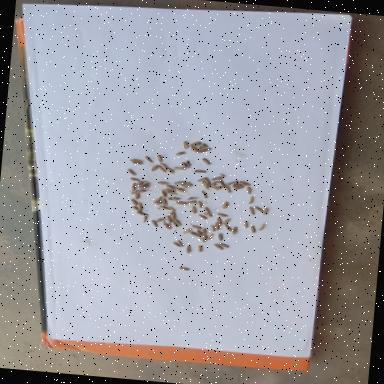pbw: (200, 180, 210, 190), (157, 206, 173, 212), (130, 160, 144, 166), (164, 188, 176, 195), (182, 141, 190, 151), (130, 206, 140, 214), (253, 206, 263, 214), (143, 156, 153, 164), (198, 148, 211, 154), (129, 199, 138, 207), (201, 158, 210, 166), (178, 266, 190, 272), (247, 207, 255, 216), (166, 197, 180, 202), (130, 182, 137, 192), (189, 147, 199, 154), (152, 197, 162, 204), (232, 186, 243, 192), (136, 202, 142, 213), (211, 176, 222, 182), (200, 191, 208, 199), (184, 160, 192, 168), (151, 220, 159, 228), (216, 234, 224, 242), (220, 202, 228, 210), (218, 180, 226, 188), (208, 225, 216, 233), (174, 220, 182, 228), (222, 218, 231, 225), (190, 142, 200, 148), (140, 184, 150, 190), (128, 178, 140, 183), (176, 188, 186, 194), (213, 245, 223, 251), (136, 212, 148, 217), (224, 181, 234, 187), (196, 177, 206, 183), (190, 232, 200, 238), (216, 213, 228, 218), (232, 228, 238, 238), (240, 182, 250, 188), (126, 170, 136, 176), (193, 170, 207, 174), (224, 224, 231, 232), (166, 168, 174, 175), (214, 185, 222, 192), (156, 155, 162, 164), (182, 229, 191, 235), (158, 168, 167, 174), (173, 167, 186, 171), (202, 213, 212, 218), (191, 225, 201, 230), (176, 201, 186, 206), (196, 201, 203, 208), (176, 240, 183, 247), (162, 199, 169, 206), (156, 182, 168, 186), (152, 164, 158, 172), (250, 226, 256, 234), (141, 216, 147, 224), (198, 214, 206, 220), (213, 222, 219, 230), (159, 164, 167, 170), (160, 190, 166, 198), (246, 187, 252, 195), (172, 182, 184, 186), (184, 184, 192, 190), (210, 181, 216, 189), (155, 217, 163, 223), (185, 246, 191, 254), (134, 192, 140, 200), (262, 208, 268, 216), (257, 224, 263, 231), (216, 218, 222, 225), (201, 236, 207, 243), (196, 246, 203, 252), (171, 222, 178, 228), (206, 234, 212, 241), (204, 208, 210, 215), (135, 190, 145, 194), (166, 216, 171, 224), (187, 198, 197, 202), (247, 196, 252, 204), (176, 152, 186, 156), (243, 222, 248, 230), (201, 228, 206, 236), (166, 186, 176, 190), (191, 206, 196, 214), (172, 243, 180, 248), (198, 146, 207, 150), (225, 188, 231, 194), (232, 180, 238, 186), (219, 244, 228, 248), (171, 213, 175, 222), (187, 201, 196, 205)
